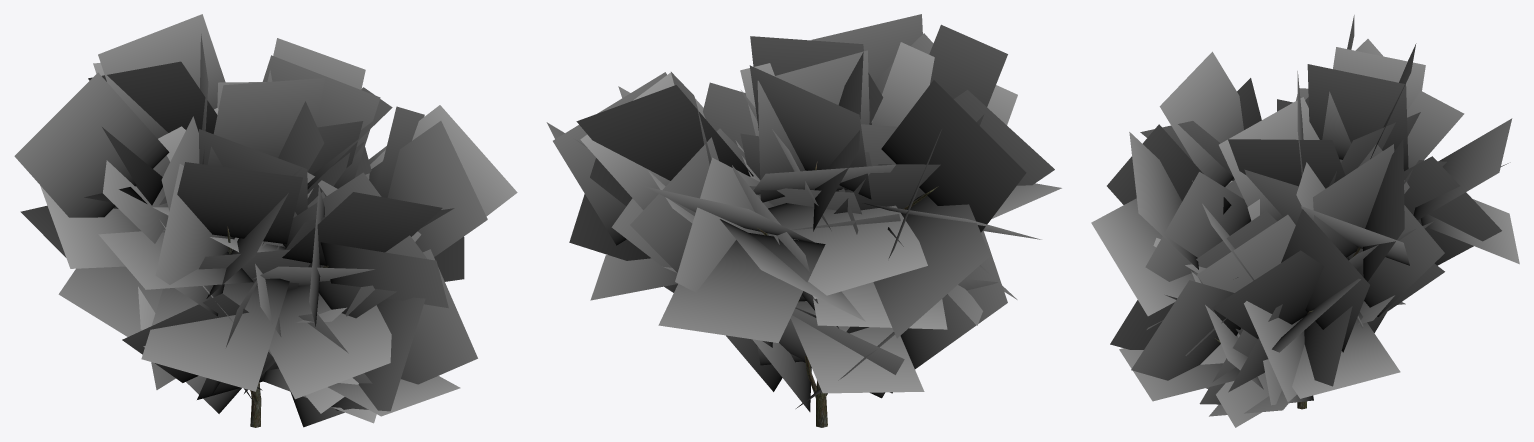
Rendered from tree1B.fbx.
The picture shows the model from 3 angles, left to right: view 1: azimuth 30°, elevation 25°; view 2: azimuth 150°, elevation 25°; view 3: azimuth 270°, elevation 25°; orthographic projection. The views are drawn at different scales.
Parts seen in each view (by area): view 1: tree1b_leafs_fliph, tree1b_leafs, tree1b_trunk; view 2: tree1b_leafs_fliph, tree1b_leafs, tree1b_trunk; view 3: tree1b_leafs_fliph, tree1b_leafs.
Part boxes in pixels (x1,y1,x2,y2): tree1b_leafs_fliph: (14, 14, 517, 427); tree1b_leafs: (18, 16, 514, 426); tree1b_trunk: (227, 226, 328, 427); tree1b_leafs_fliph: (546, 14, 1061, 411); tree1b_leafs: (548, 17, 1051, 407); tree1b_trunk: (757, 161, 938, 427); tree1b_leafs_fliph: (1091, 15, 1519, 416); tree1b_leafs: (1094, 16, 1518, 427).
Bounding box in the file's own units: 13.42 × 10.16 × 11.7.
